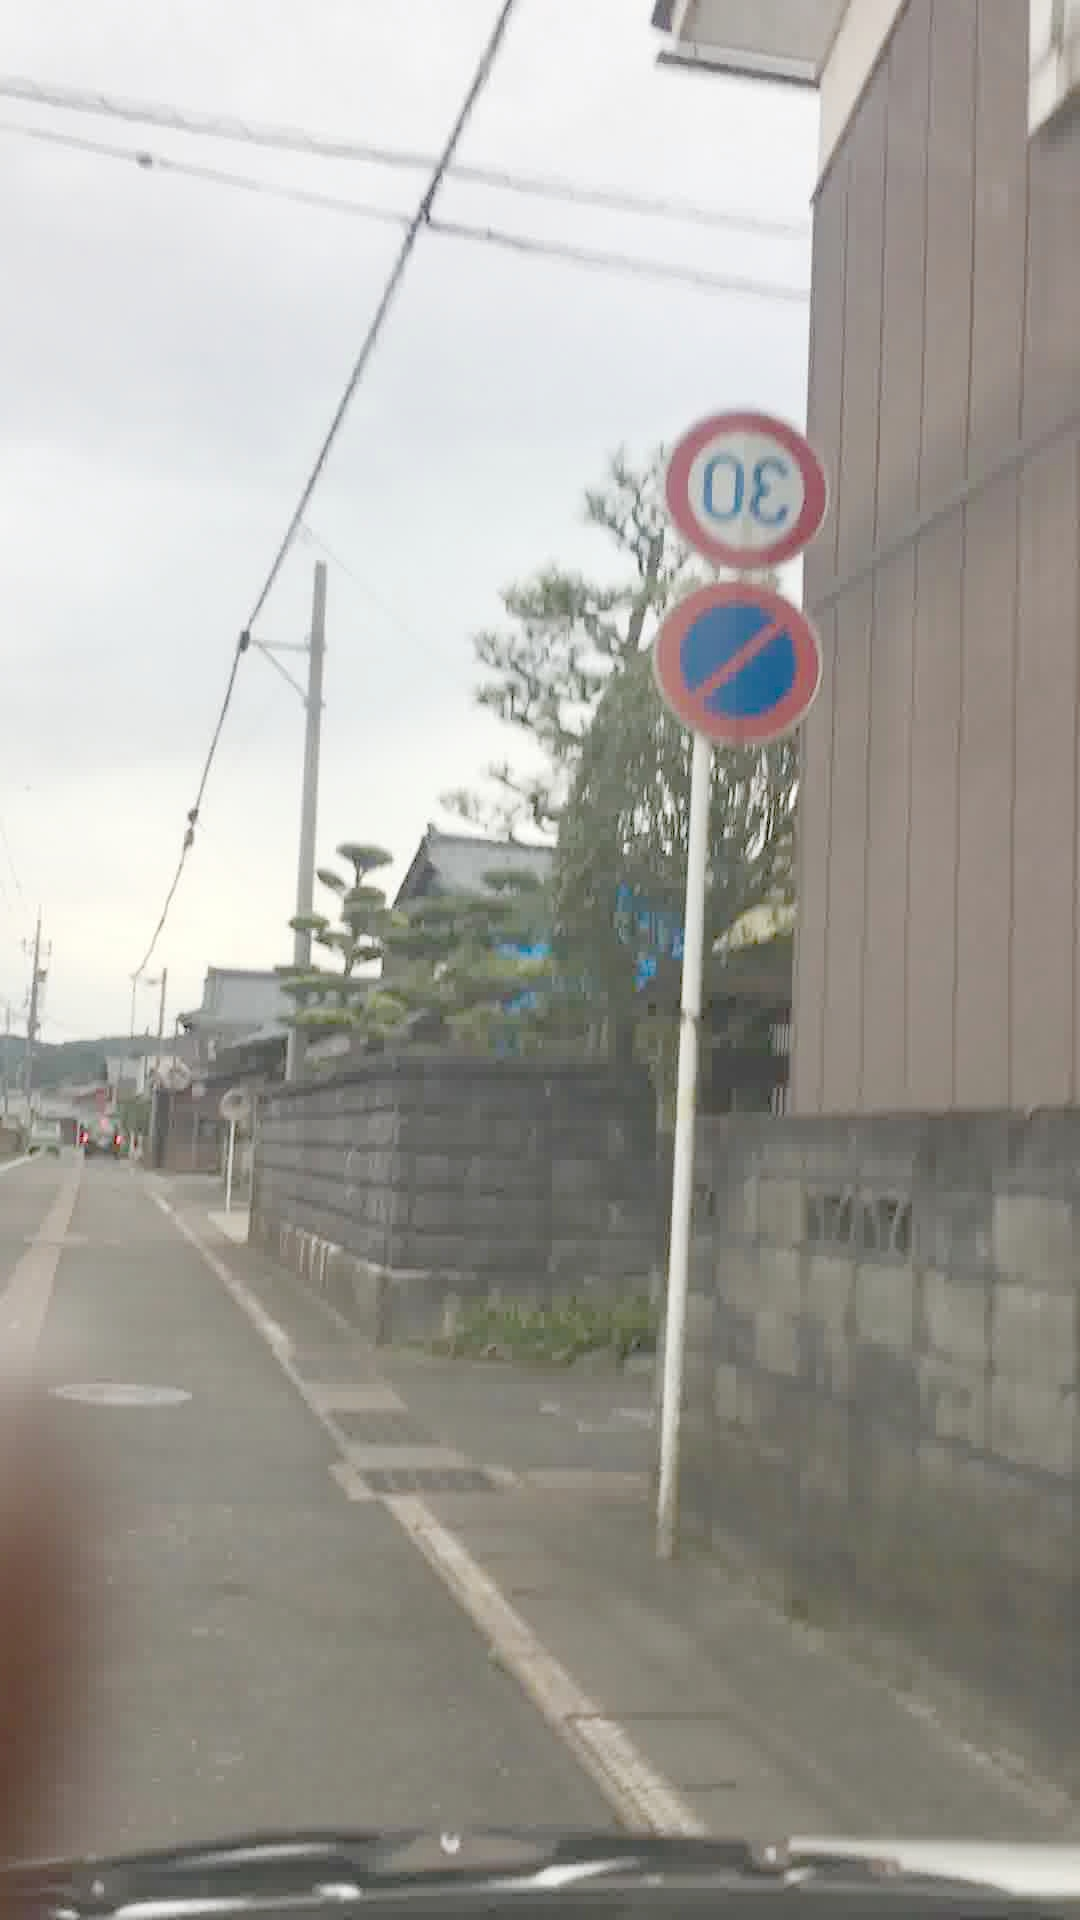Prohibition_sign: (638, 580, 818, 752)
Speed_sign: (662, 400, 832, 580)
